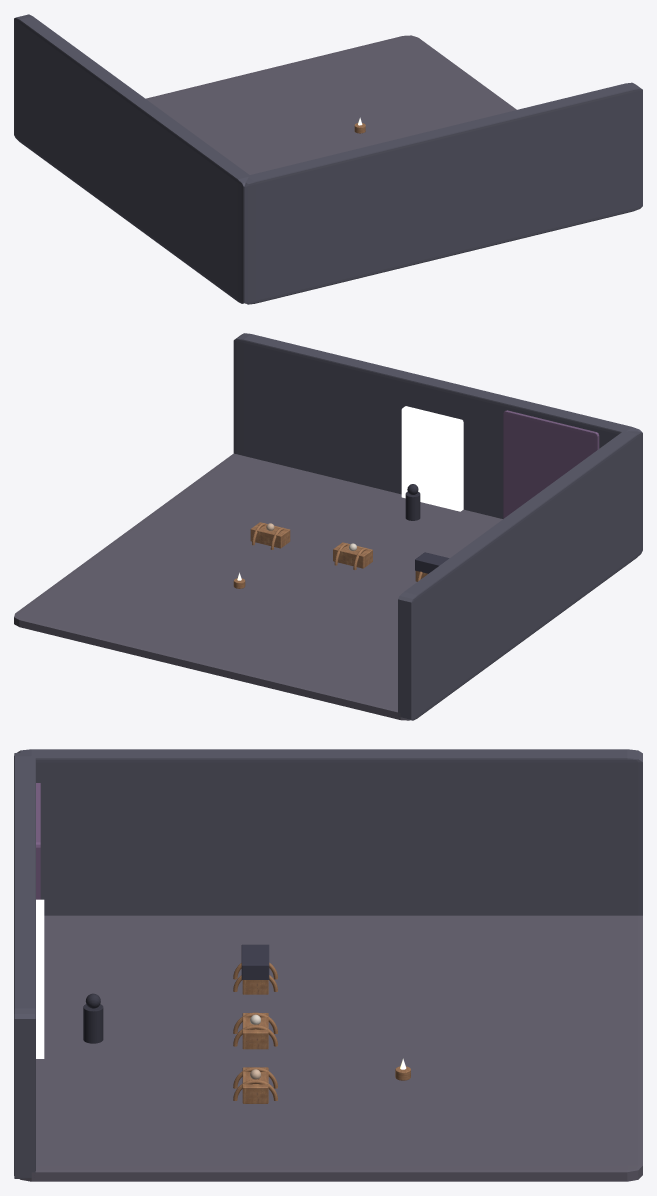
File: adi-05-vyasa-line.glb
3 renders of one model, top to bottom at view 1: azimuth 30°, elevation 25°; view 2: azimuth 150°, elevation 25°; view 3: azimuth 270°, elevation 25°, orthographic. The views are drawn at different scales.
Visible parts, largest first — view 1: GEO-rearwall, GEO-sidewall, GEO-floor; view 2: GEO-floor, GEO-sidewall, GEO-rearwall, GEO-drape, GEO-doorway, GEO-cradle2, GEO-cradle1; view 3: GEO-floor, GEO-sidewall, GEO-rearwall, GEO-doorway, GEO-cover0, GEO-cradle1, GEO-cradle2, GEO-vyasa-body.
Part boxes in pixels (bbox=[...]): GEO-rearwall: bbox=[244, 82, 642, 304]; GEO-sidewall: bbox=[14, 14, 250, 303]; GEO-floor: bbox=[146, 35, 516, 303]; GEO-floor: bbox=[14, 453, 502, 720]; GEO-sidewall: bbox=[398, 431, 642, 720]; GEO-rearwall: bbox=[233, 333, 642, 518]; GEO-drape: bbox=[503, 410, 599, 518]; GEO-doorway: bbox=[401, 406, 463, 511]; GEO-cradle2: bbox=[250, 522, 290, 548]; GEO-cradle1: bbox=[333, 542, 372, 568]; GEO-floor: bbox=[20, 915, 642, 1181]; GEO-sidewall: bbox=[17, 749, 642, 915]; GEO-rearwall: bbox=[14, 753, 35, 1178]; GEO-doorway: bbox=[36, 899, 44, 1058]; GEO-cover0: bbox=[241, 944, 269, 979]; GEO-cradle1: bbox=[242, 1013, 268, 1049]; GEO-cradle2: bbox=[242, 1067, 268, 1103]; GEO-vyasa-body: bbox=[83, 1004, 103, 1043].
Bounding box in the file's own units: 34.1 × 10.62 × 34.1.
10 materials, 1 textured.
